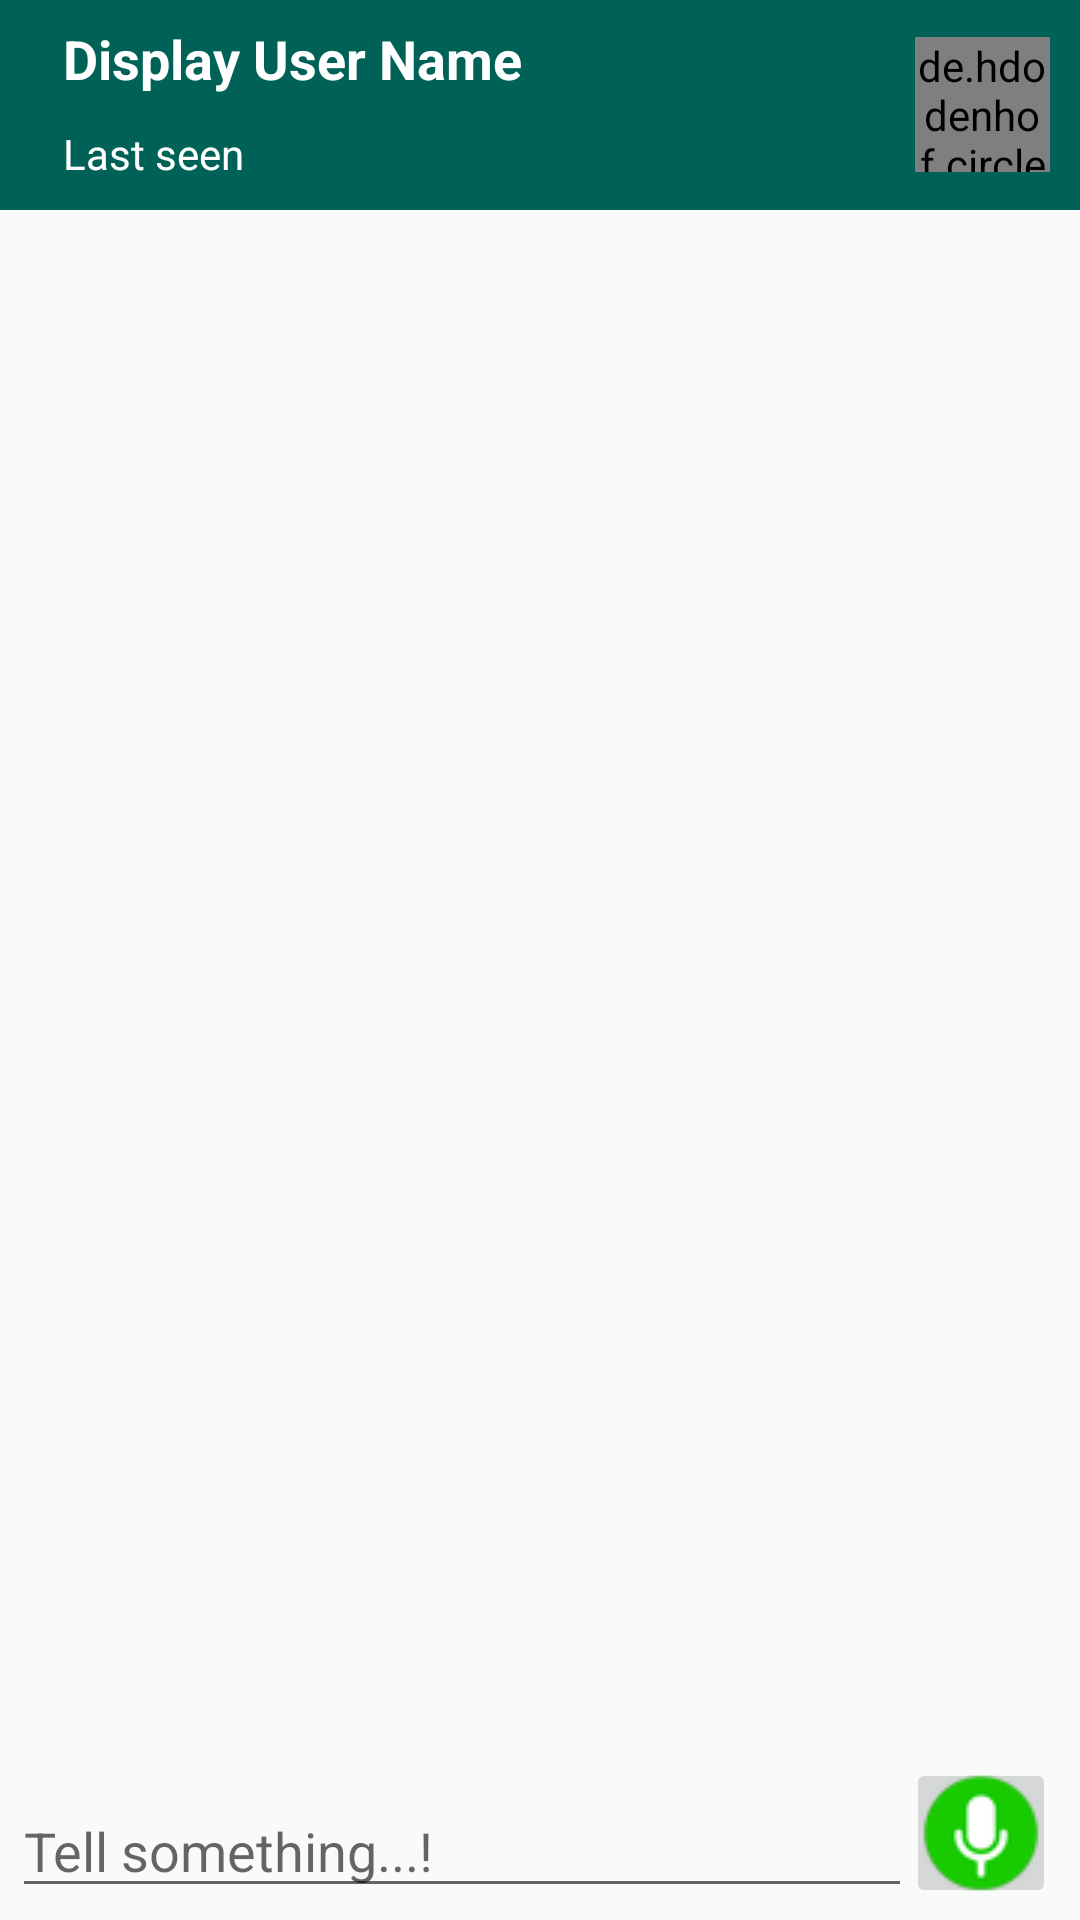

Screen size 1080 x 1920. Icon name, then its center in pixels as [x,y]:
rsz 1microphonegreen: [981,1833]
